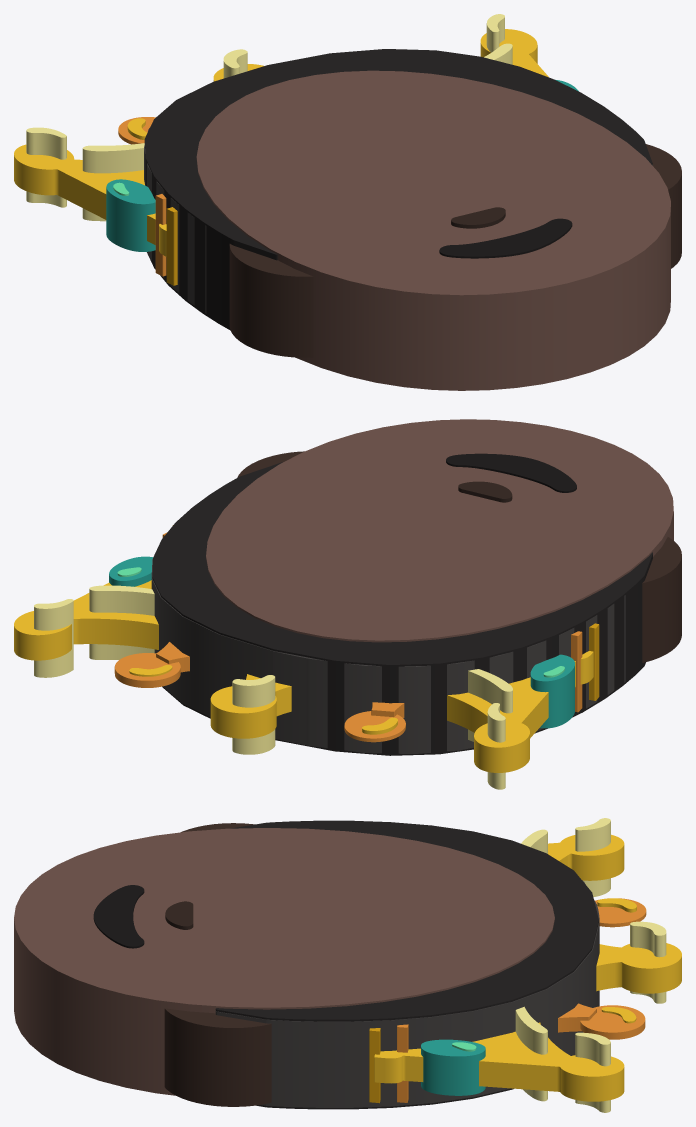
The model's file is emoji_u1f934_1f3ff.glb.
3 views of the same model, one above another, from view 1: azimuth 30°, elevation 25°; view 2: azimuth 150°, elevation 25°; view 3: azimuth 270°, elevation 25° (orthographic). The views are drawn at different scales.
Parts seen in each view (by area): view 1: emoji_u1f934_1f3ff; view 2: emoji_u1f934_1f3ff; view 3: emoji_u1f934_1f3ff.
Boxes of the visible parts, x1,y1,x2,y2 form: emoji_u1f934_1f3ff: (14, 14, 681, 390); emoji_u1f934_1f3ff: (14, 419, 681, 789); emoji_u1f934_1f3ff: (14, 818, 681, 1112).
Size of the model in its own units: 0.0292 by 0.0056 by 0.0338.
